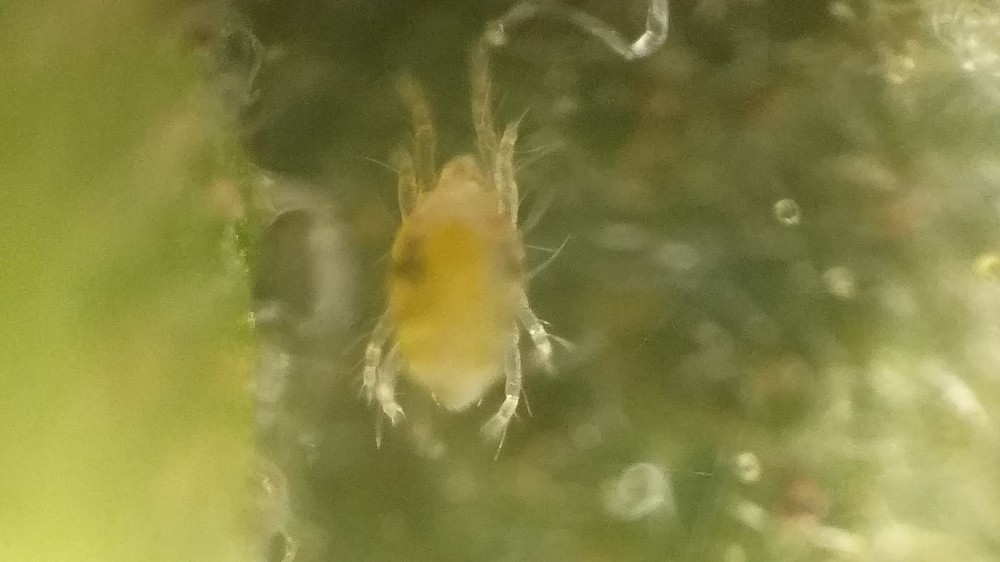Aracnido Rojo: (327, 66, 572, 470)
